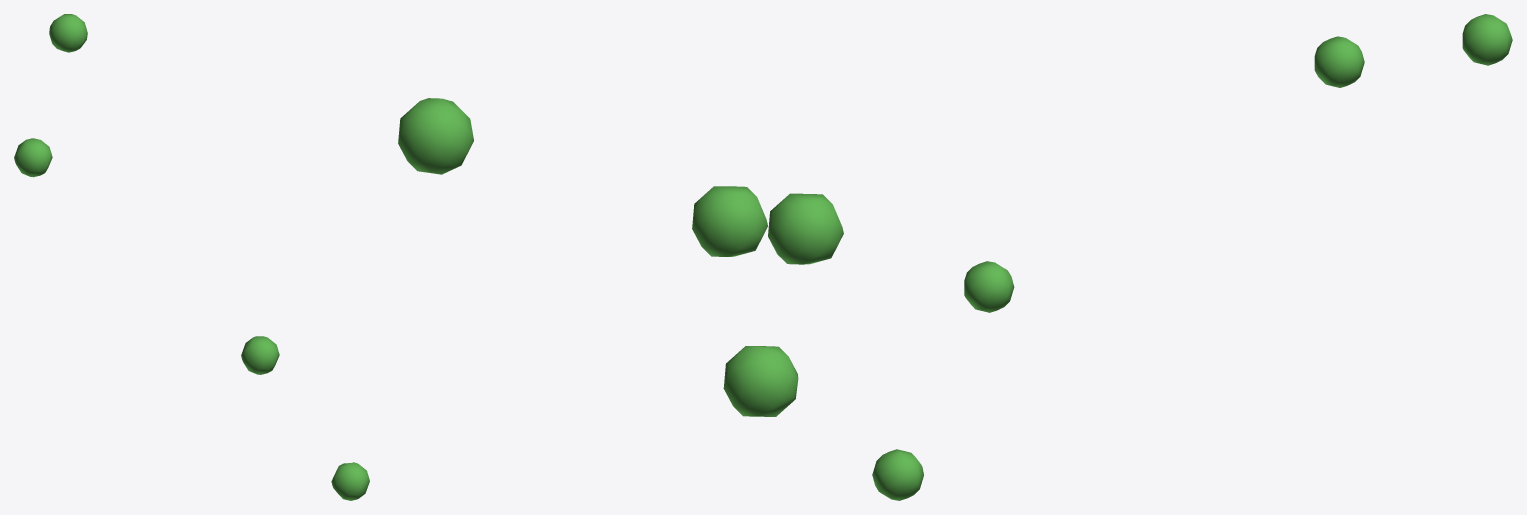
The model's file is linfatico-obturator-nodes-r.glb.
The picture shows the model from 3 angles, left to right: view 1: azimuth 30°, elevation 25°; view 2: azimuth 150°, elevation 25°; view 3: azimuth 270°, elevation 25°; orthographic projection. The views are drawn at different scales.
Visible parts, largest first — view 1: Obturator nodes.r; view 2: Obturator nodes.r; view 3: Obturator nodes.r.
Part boxes in pixels (bbox=[...]): Obturator nodes.r: bbox=[14, 14, 369, 500]; Obturator nodes.r: bbox=[398, 98, 843, 416]; Obturator nodes.r: bbox=[872, 14, 1512, 500].
Bounding box in the file's own units: 0.0141 × 0.0244 × 0.0321.
